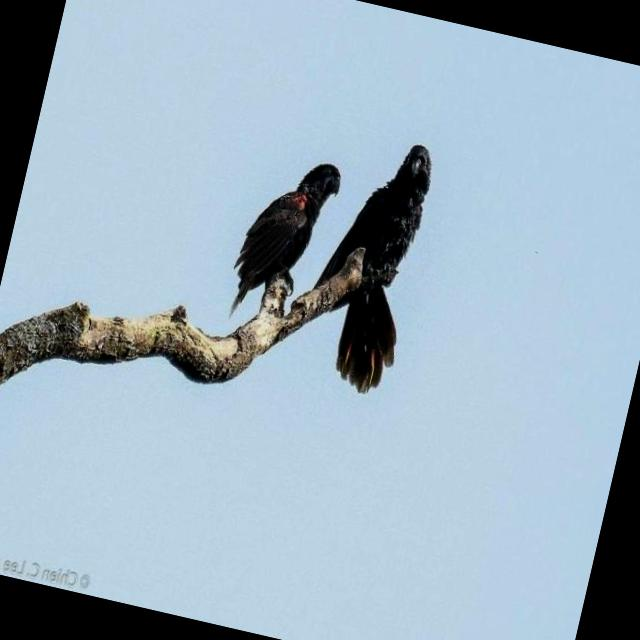Nuri Hitam: (292, 106, 456, 412), (207, 126, 356, 355)
